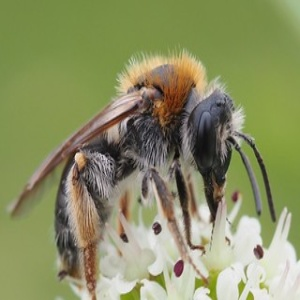bee: (6, 41, 278, 300)
